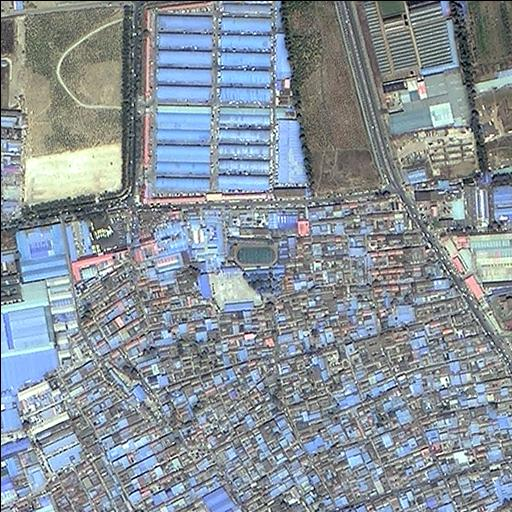school: (226, 234, 282, 301)
